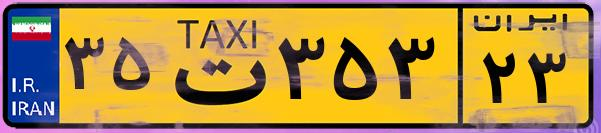2: (475, 38, 525, 113)
3: (270, 28, 330, 110), (385, 28, 445, 110), (57, 26, 110, 100), (525, 38, 570, 115)
5: (330, 28, 385, 110), (110, 28, 158, 98)
ت: (158, 12, 270, 120)
